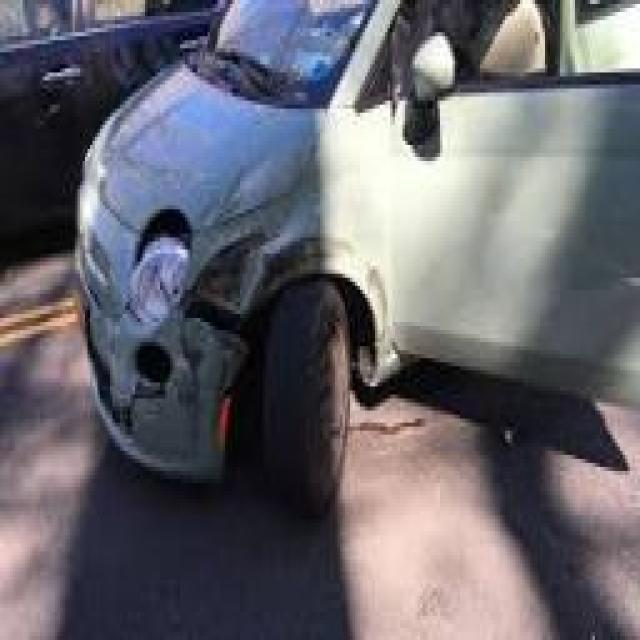Bumper: (75, 297, 256, 507)
Fender: (186, 138, 404, 374)
Light: (108, 218, 197, 332)
